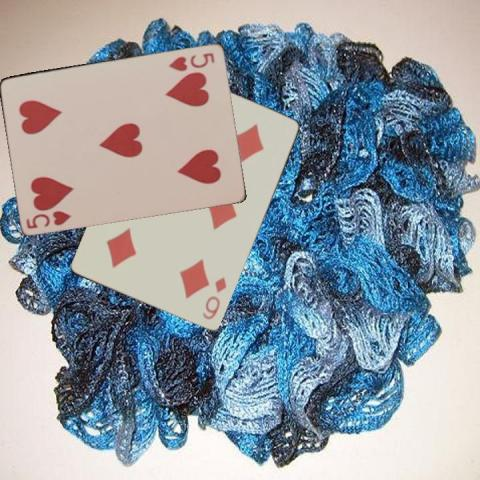5h: (166, 49, 217, 73), (23, 207, 73, 230)
6d: (199, 274, 229, 321)
